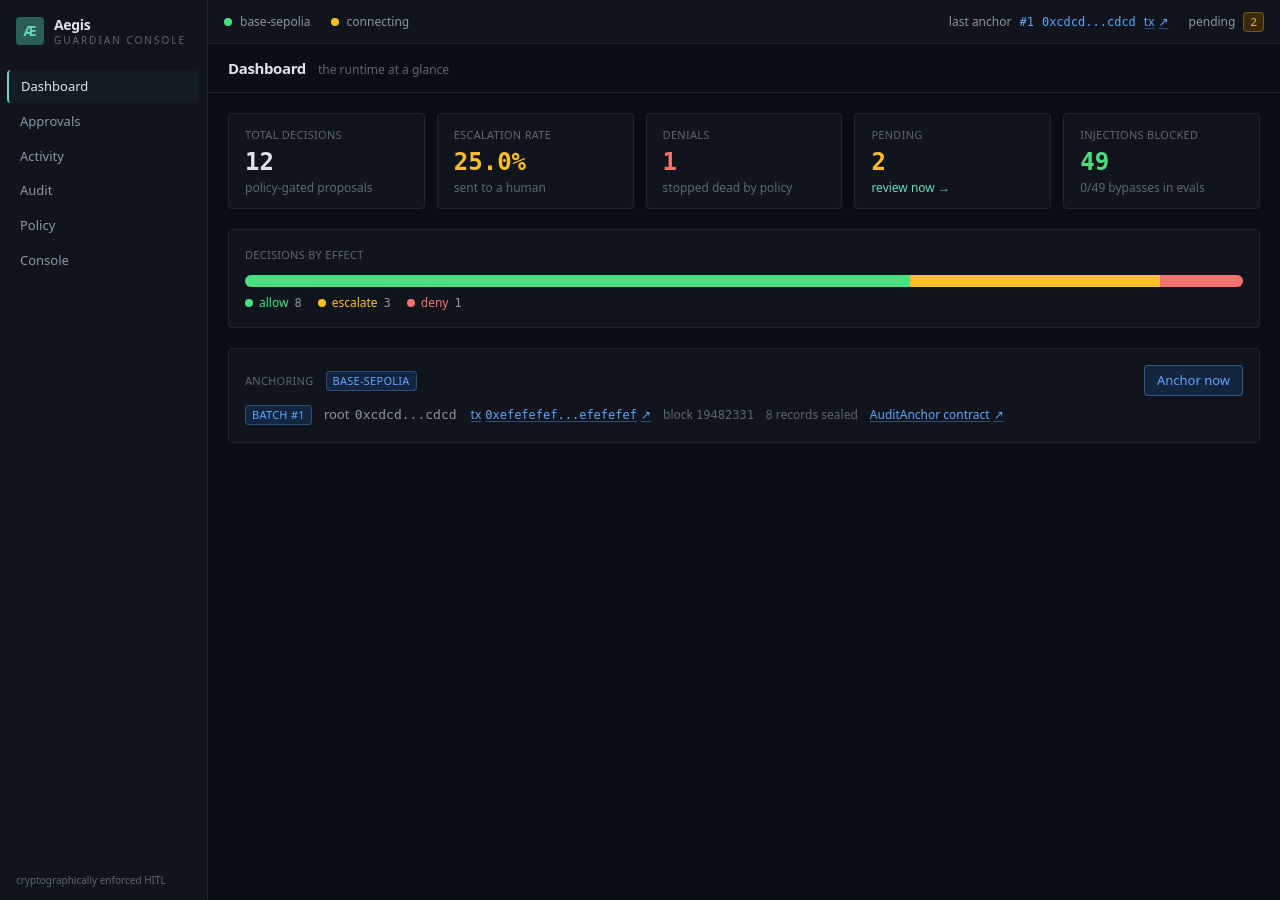
Test case: DashboardPage › says so when there is nothing new to anchor
Step 1. Click the button "Anchor now" → coordinates (1193, 381), box [1144,365,1243,396]
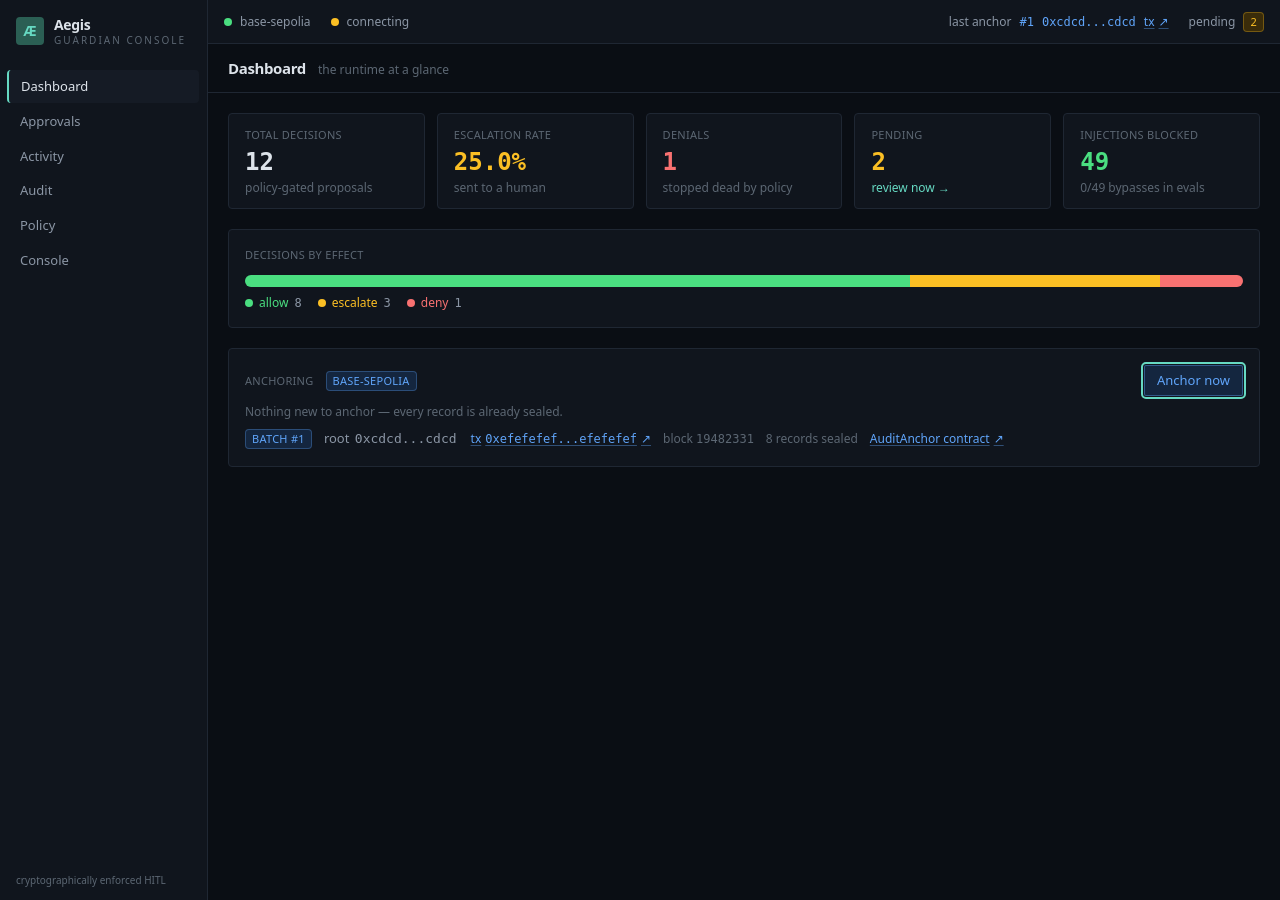
Expected: the text "Nothing new to anchor — every record is already sealed." is shown, [245,403,563,420]
